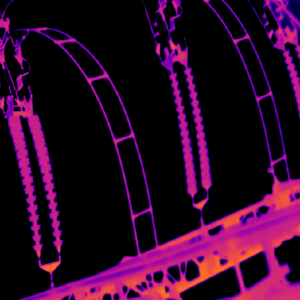insulator: (6, 112, 62, 257), (167, 65, 215, 199), (280, 44, 300, 116)
